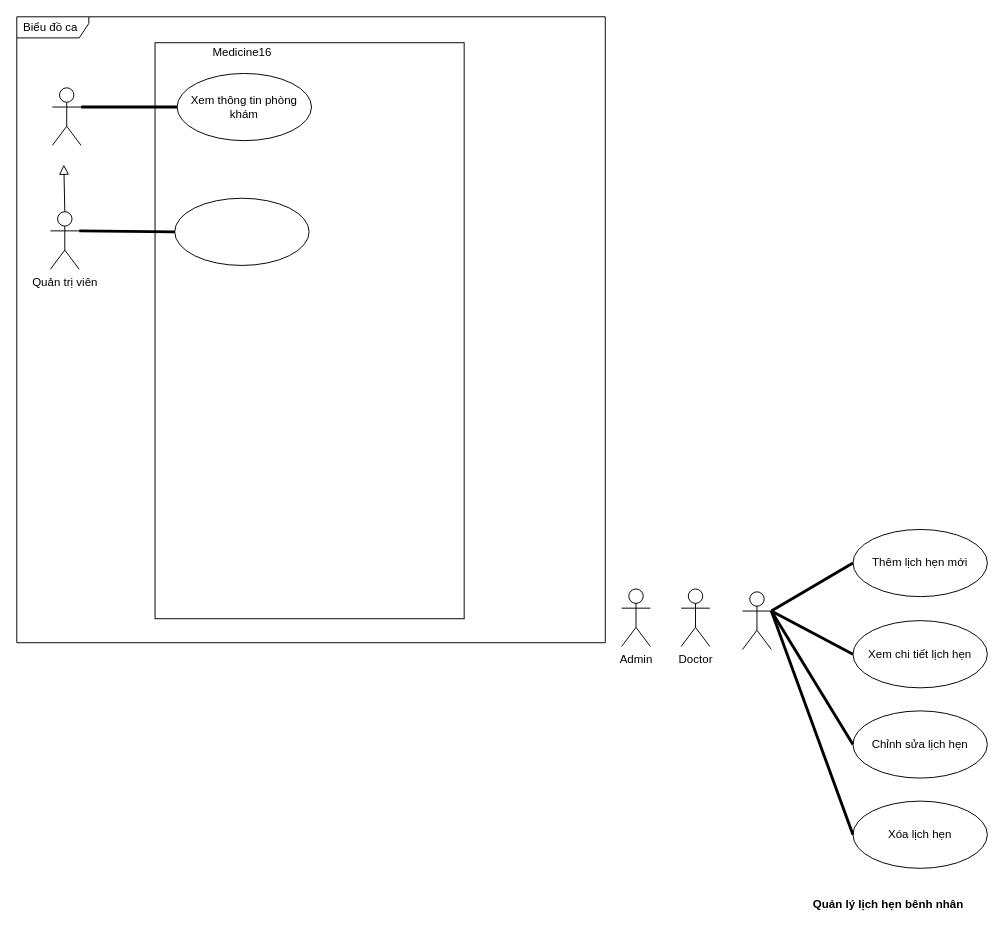
Image size: 1004x933. Some labels were removed from this diagram. Here are the shapes that lost their labels. From the top down, the centre of each, then its label:
(66,116): Khách
(241,231): Quản lý thông tin phòng khám
(756,620): Staff
